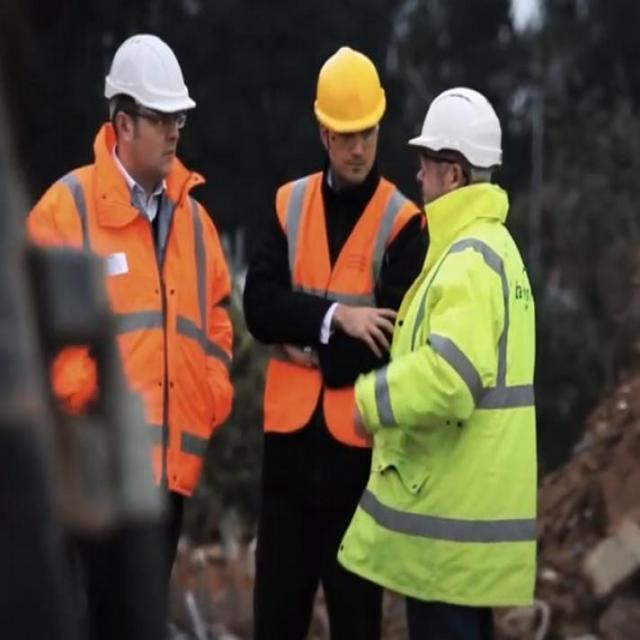helmet: (101, 28, 202, 118), (406, 85, 505, 170), (311, 41, 391, 138)
person: (270, 41, 416, 634), (83, 23, 238, 555), (399, 82, 543, 640)
vest: (80, 157, 220, 513), (411, 223, 537, 603), (278, 175, 417, 447)
